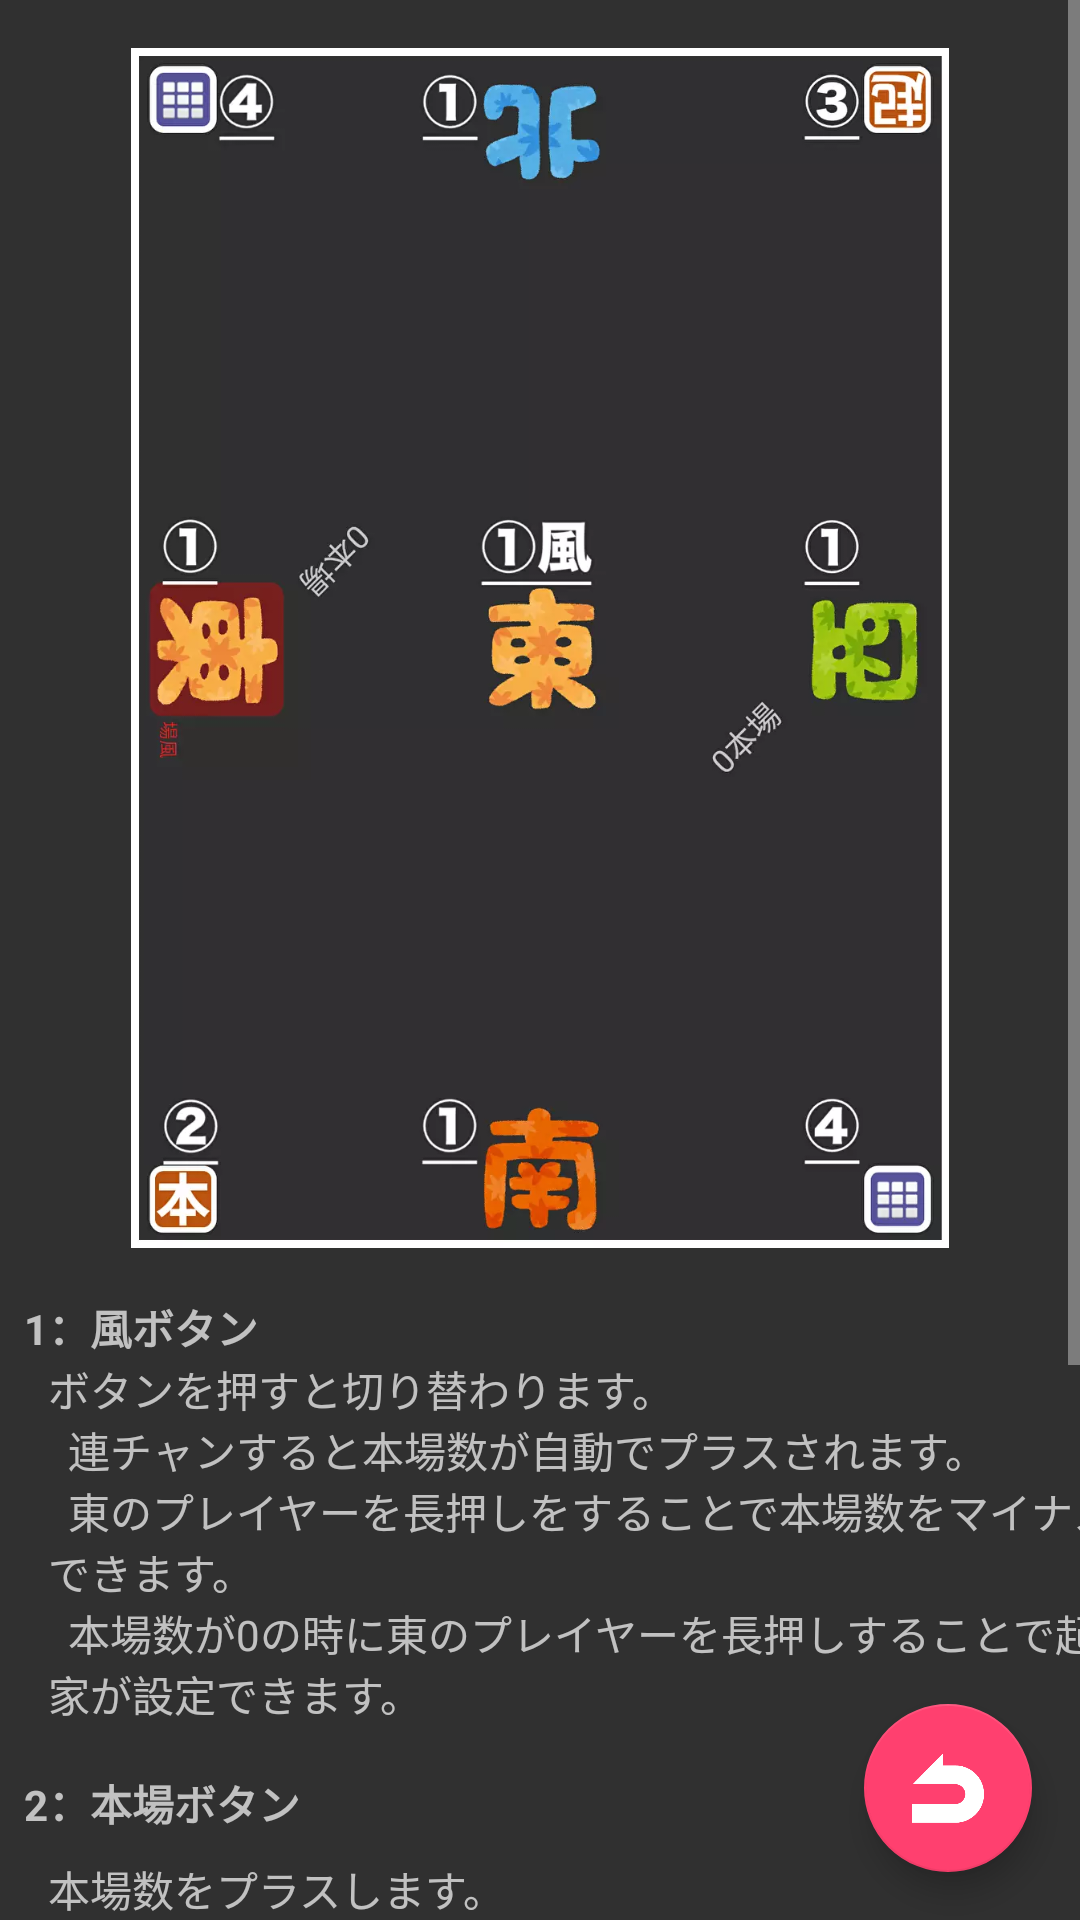

Locate icon controls on the screen. Image size 1080px x 1920px, boxes as (x1, y1, x2, y2).
back: (864, 1704, 1032, 1872)
